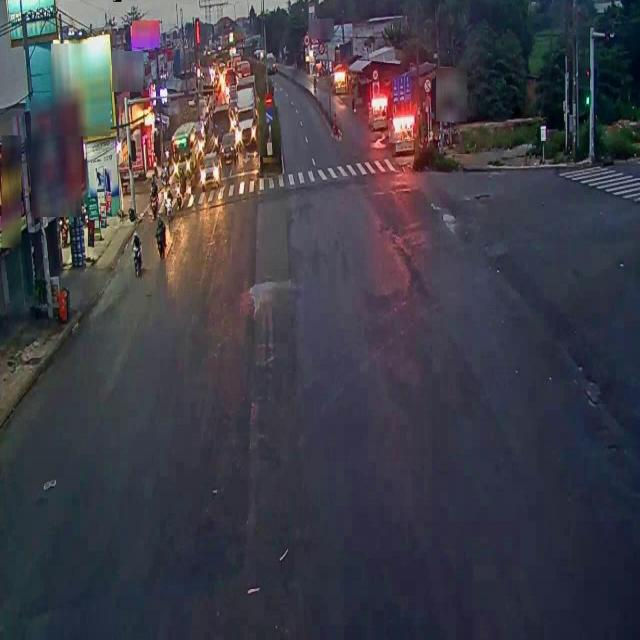motorcycle: (154, 208, 168, 260), (130, 228, 144, 276)
